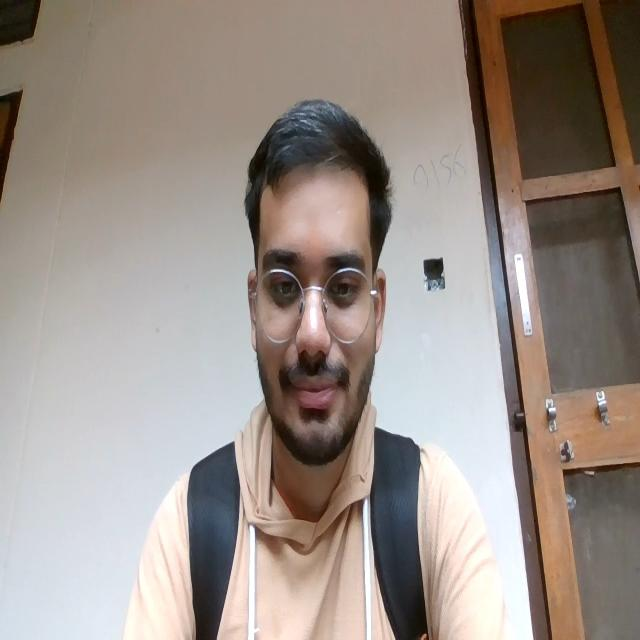awake: (252, 234, 370, 430)
